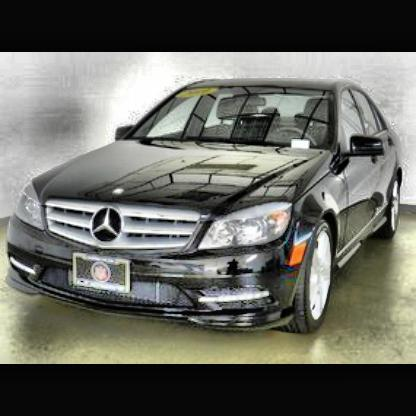Mercedes-Benz C-Class Sedan 2012: (7, 80, 404, 342)
